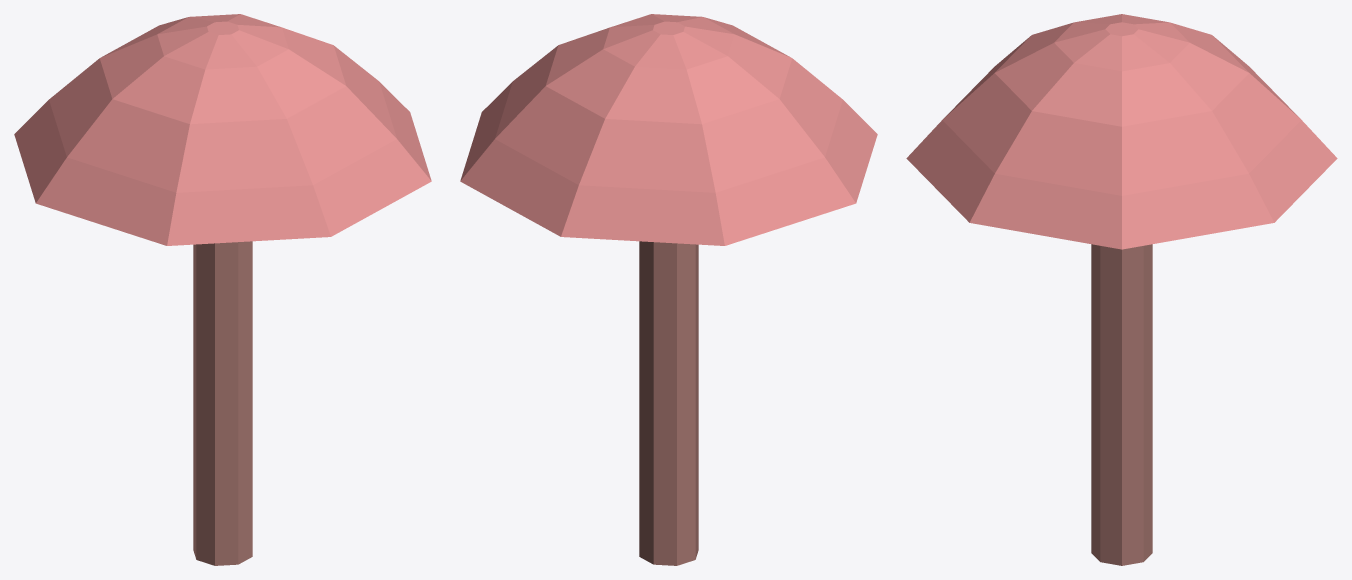
File: Mushroom2.2.fbx
The picture shows the model from 3 angles, left to right: view 1: azimuth 30°, elevation 25°; view 2: azimuth 150°, elevation 25°; view 3: azimuth 270°, elevation 25°; orthographic projection.
Parts seen in each view (by area): view 1: Mushroom2.2; view 2: Mushroom2.2; view 3: Mushroom2.2.
Part boxes in pixels (left/top/right/bottom): Mushroom2.2: left=14, top=14, right=431, bottom=565; Mushroom2.2: left=460, top=14, right=877, bottom=565; Mushroom2.2: left=906, top=14, right=1337, bottom=565.
Bounding box in the file's own units: 19.25 × 25.8 × 19.25.
